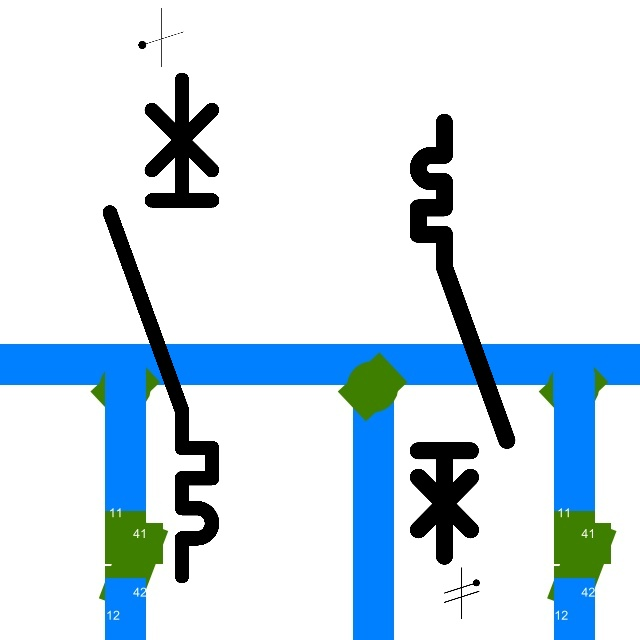interruptor_termomagnetico: (97, 67, 225, 589), (407, 111, 518, 567)
